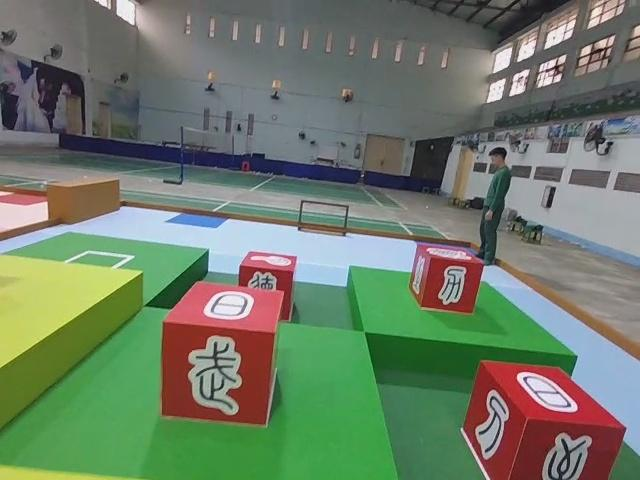R2 Fake: (460, 356, 630, 480), (159, 277, 286, 427), (407, 238, 486, 315), (236, 248, 300, 324)
